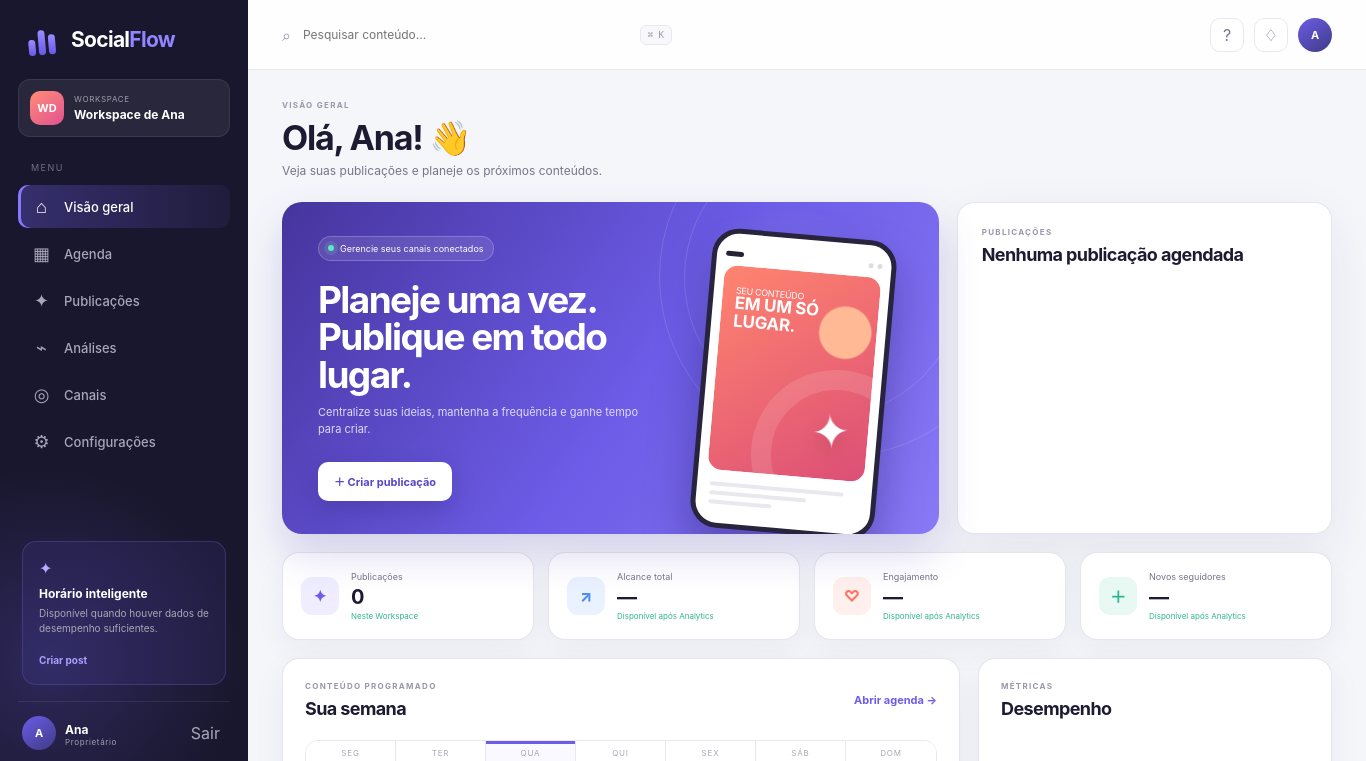
Test: SocialFlow › não apresenta dados de demonstração a um Workspace real vazio no caminho HTTP
Expected: the heading "Nenhuma publicação agendada" is shown, [982,244,1244,265]
Expected: the text "Publicações" shows "0", [351,585,364,609]
Click the button "⌁ Análises": (124, 348) [18,326,230,369]
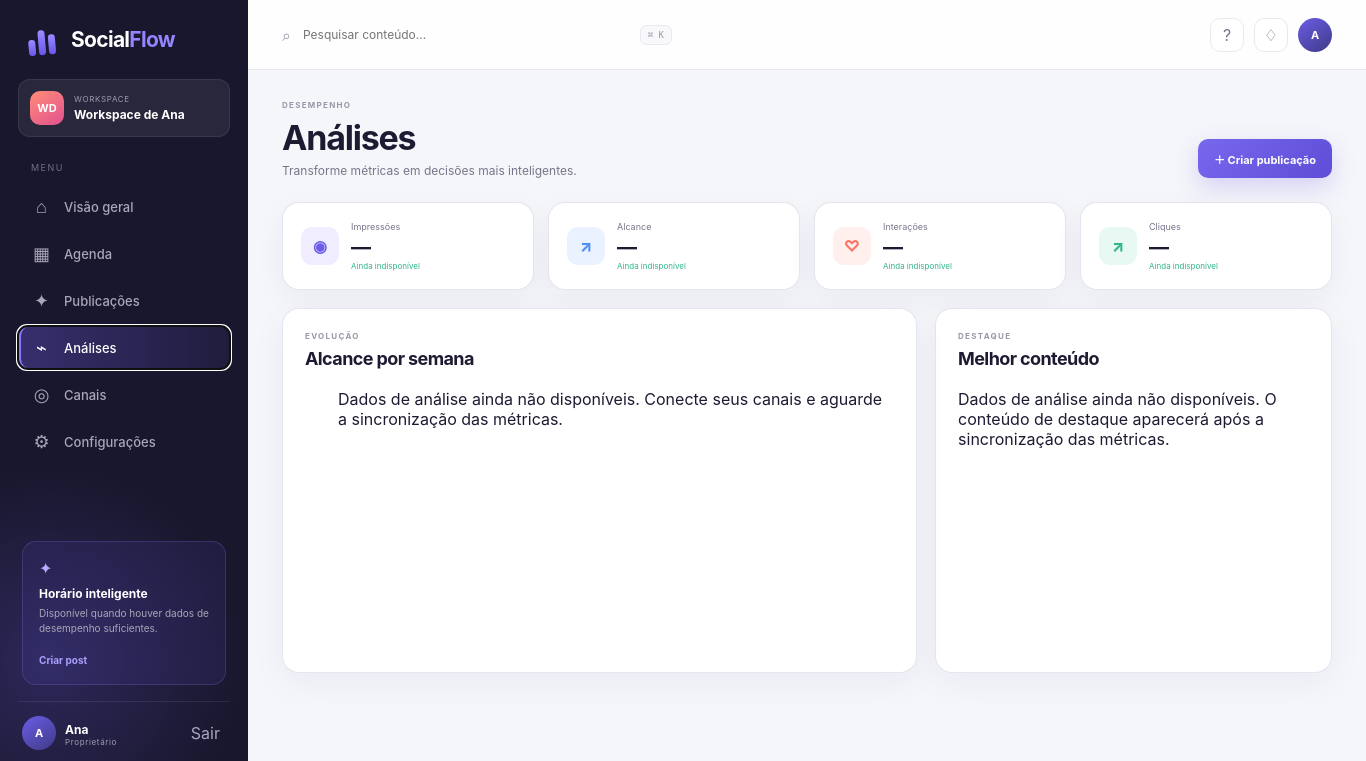
Expected: the text "Dados de análise ainda não disponíveis" is shown 2 times, [338,389,894,429]; [958,389,1309,449]
Click the button "▦ Agenda": (124, 254) [18,232,230,275]
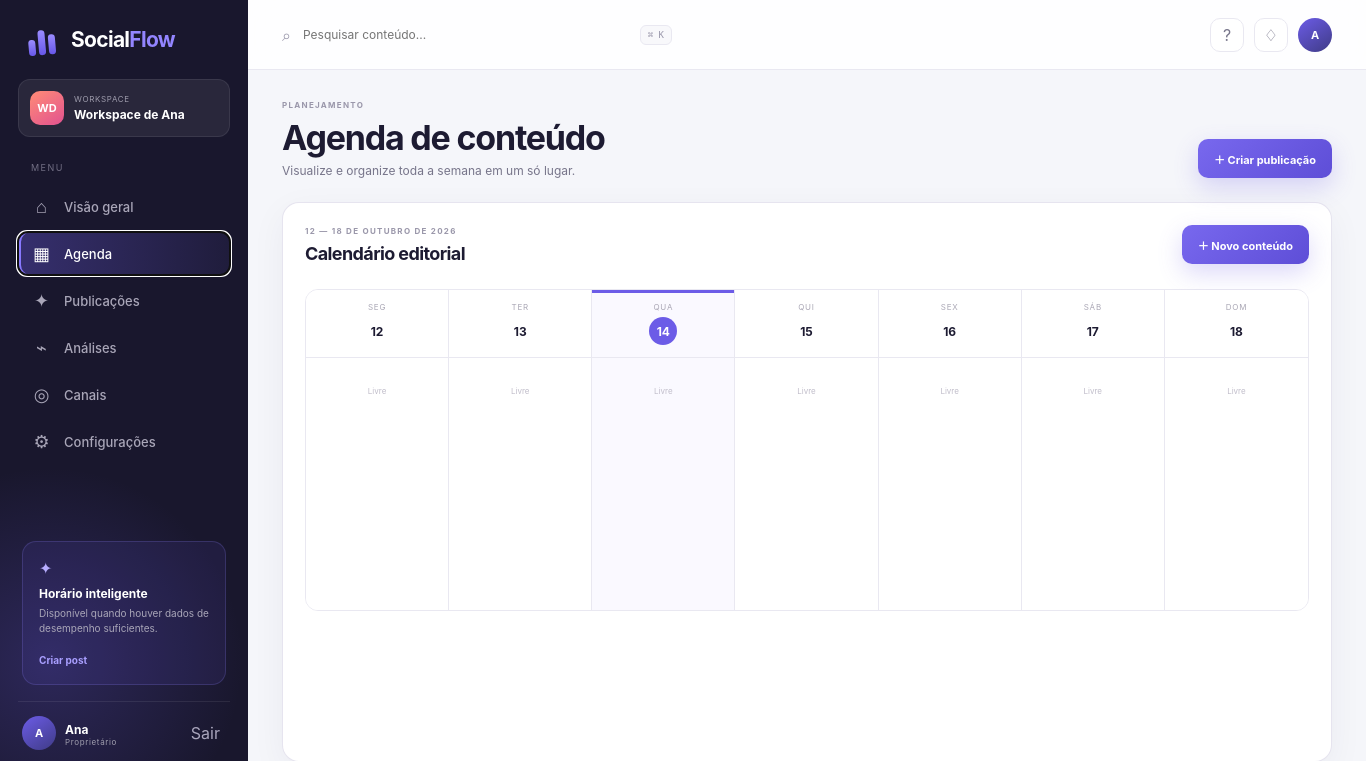
Now the text "Livre" is shown 7 times
Click the button "⚙ Configurações": (124, 442) [18,420,230,463]
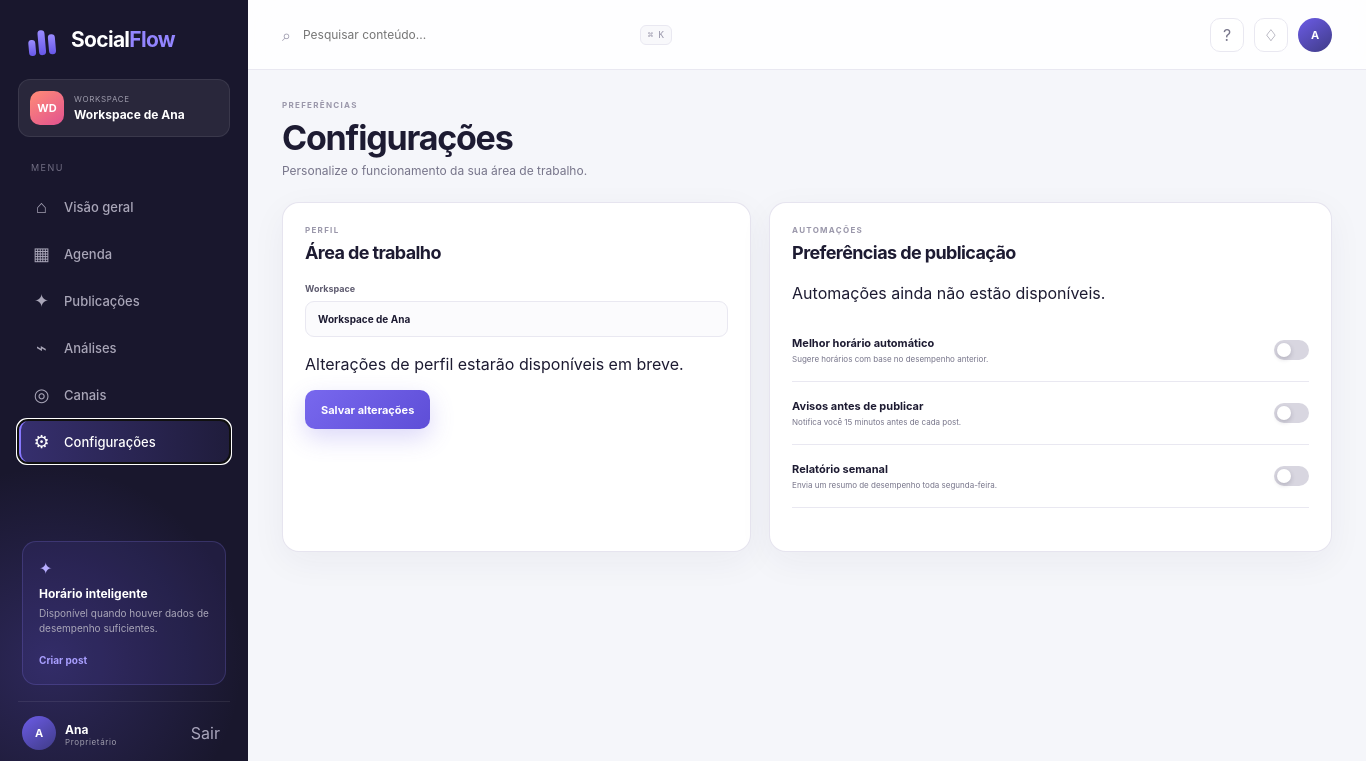
Now the field labelled "Workspace" holds "Workspace de Ana", box [305,301,728,337]
Now the button "Salvar alterações" is disabled, box [305,390,430,429]
Click the button "Criar post": (63, 660) [39,654,87,666]
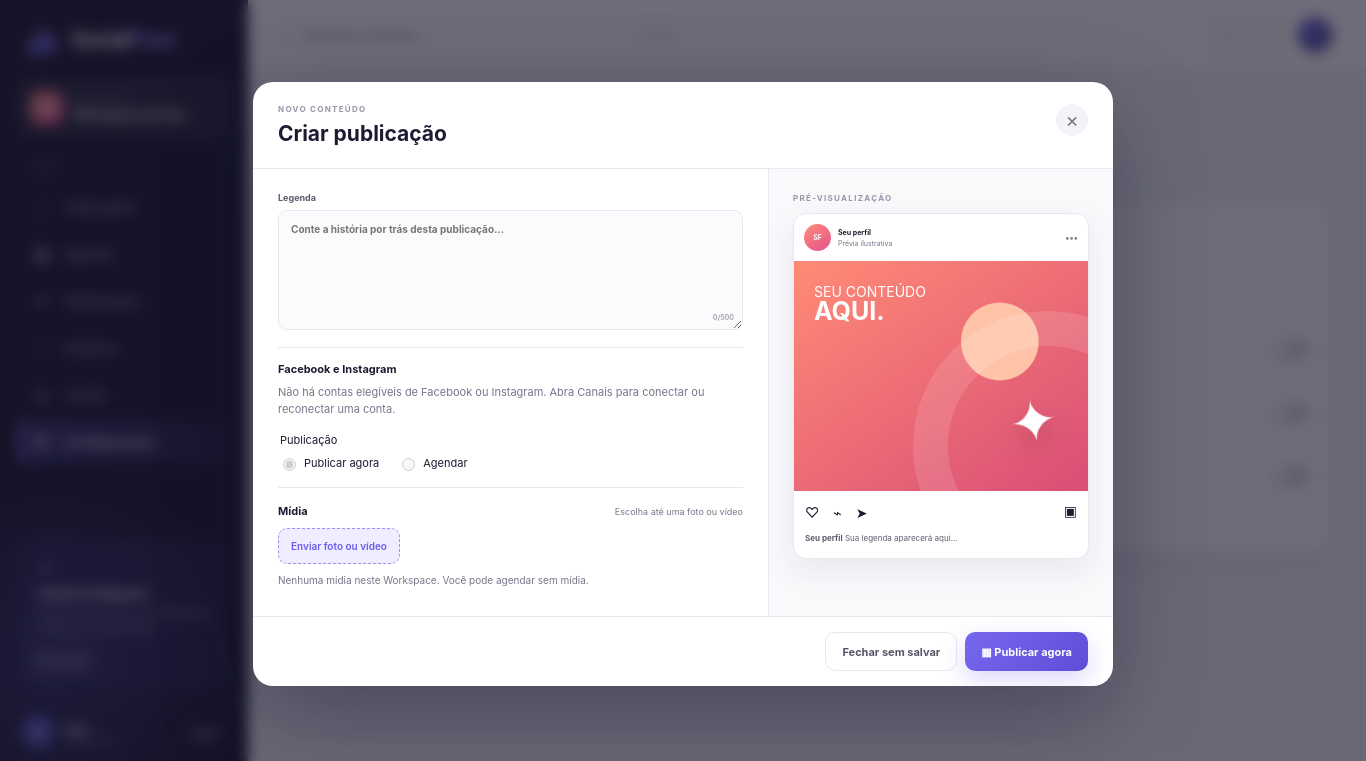
Now the text "Prévia ilustrativa" is shown, box [838,238,892,248]
Now the button "Fechar sem salvar" is shown, box [825,632,957,671]
